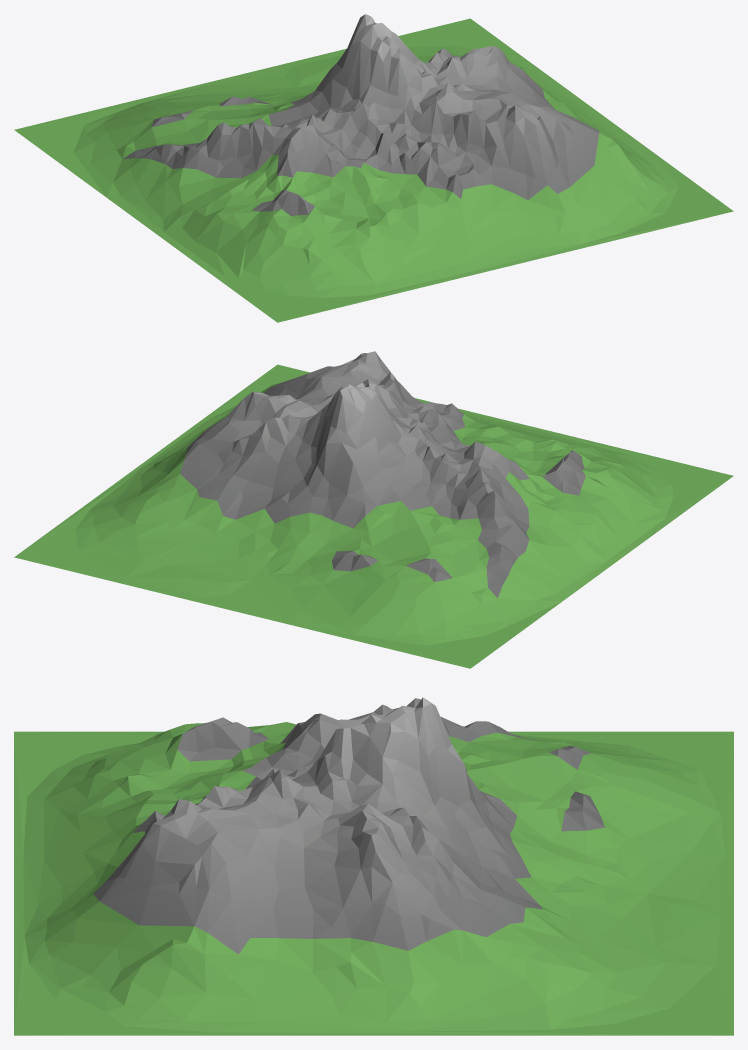
The model's file is SM_Nature_Landscape_09.fbx.
3 renders of one model, top to bottom at view 1: azimuth 30°, elevation 25°; view 2: azimuth 150°, elevation 25°; view 3: azimuth 270°, elevation 25°, orthographic. The views are drawn at different scales.
Parts seen in each view (by area): view 1: SM_Nature_Landscape_09; view 2: SM_Nature_Landscape_09; view 3: SM_Nature_Landscape_09.
Boxes of the visible parts, x1,y1,x2,y2 form: SM_Nature_Landscape_09: [14, 14, 733, 322]; SM_Nature_Landscape_09: [14, 351, 733, 668]; SM_Nature_Landscape_09: [14, 697, 733, 1035].
Bounding box in the file's own units: 100 × 29.53 × 100.
